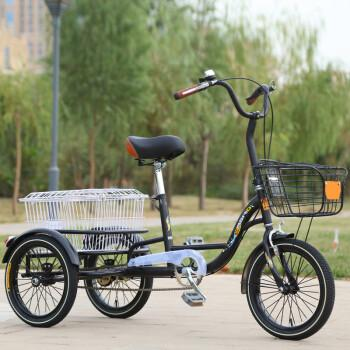empty: (2, 66, 344, 342)
